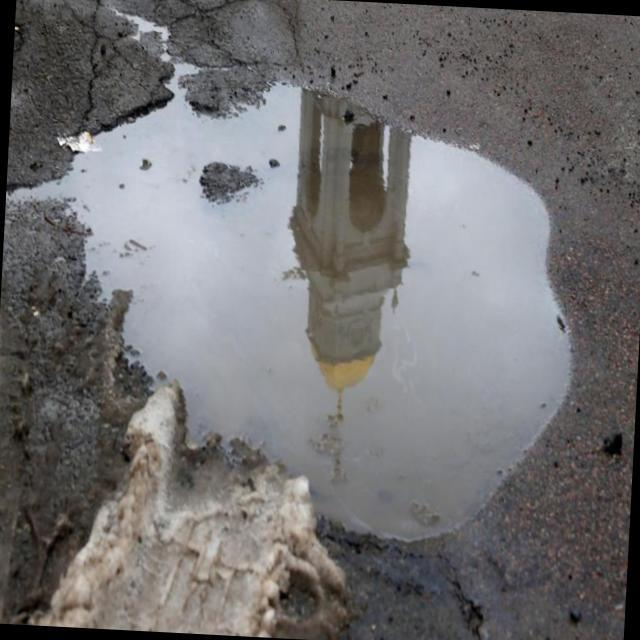Pothole: (36, 56, 586, 565)
